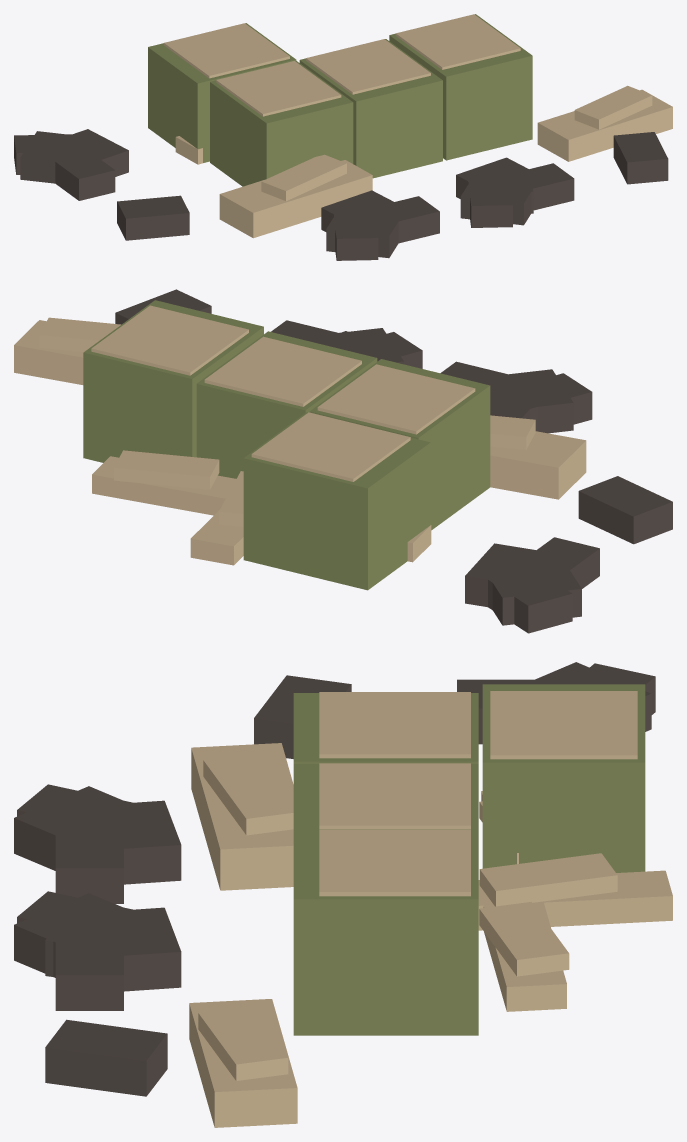
Rendered from SM_HescoRemate_v4_Red_e2_MuyDanado_LOD1.fbx.
The picture shows the model from 3 angles, top to bottom: view 1: azimuth 30°, elevation 25°; view 2: azimuth 150°, elevation 25°; view 3: azimuth 270°, elevation 25°; orthographic projection. The views are drawn at different scales.
Parts seen in each view (by area): view 1: SM_hesco_piezas_v38_LOD1; view 2: SM_hesco_piezas_v38_LOD1; view 3: SM_hesco_piezas_v38_LOD1.
Part boxes in pixels (box(x1,y1,x2,y2)): SM_hesco_piezas_v38_LOD1: box(14, 14, 672, 260); SM_hesco_piezas_v38_LOD1: box(14, 289, 672, 633); SM_hesco_piezas_v38_LOD1: box(14, 662, 672, 1127).
Size of the model in its own units: 6.71 by 1.02 by 4.34.
